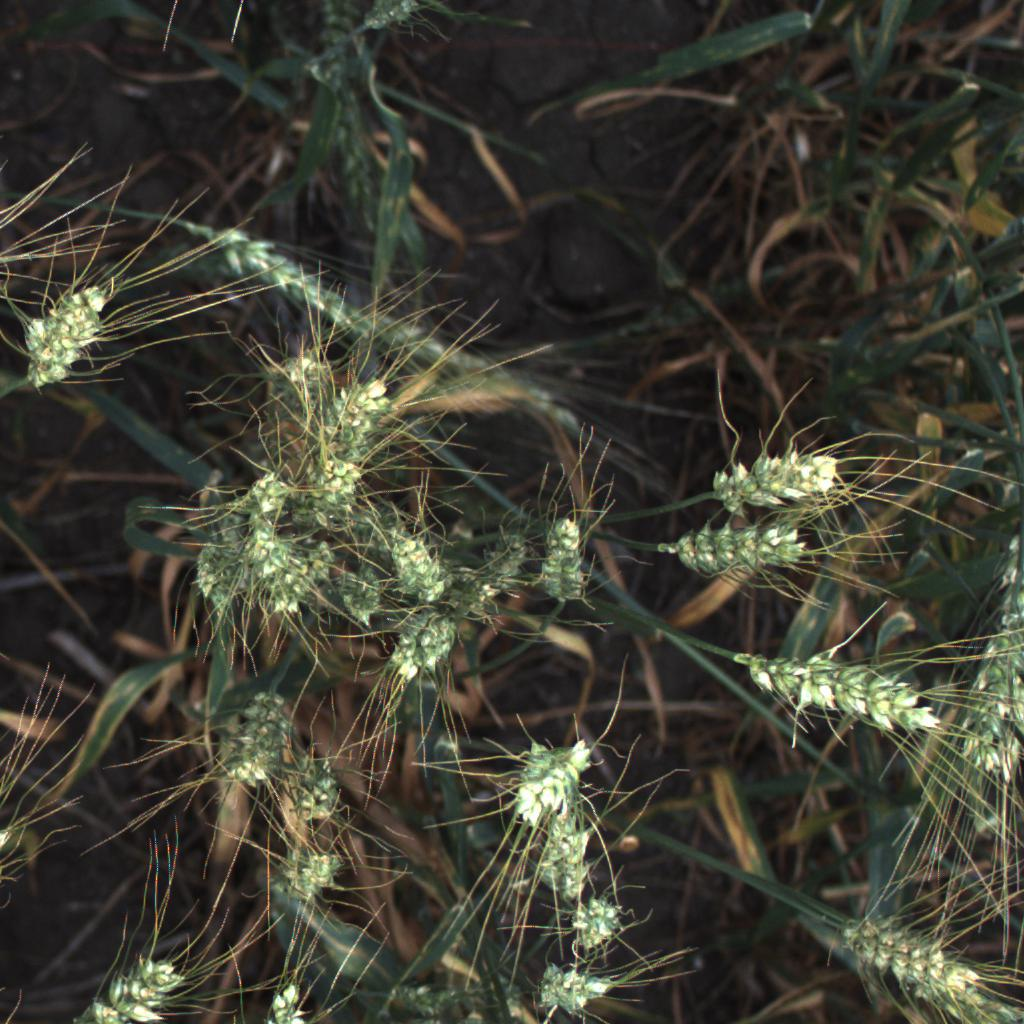0-0: (187, 511, 600, 610), (736, 629, 951, 739), (183, 213, 367, 333), (833, 922, 1022, 1024), (13, 259, 123, 399), (485, 704, 600, 828), (946, 614, 1022, 782), (61, 942, 196, 1024), (709, 441, 852, 517), (667, 514, 822, 580), (992, 519, 1024, 798), (223, 682, 295, 797), (247, 522, 322, 625), (389, 609, 480, 690), (259, 838, 348, 918), (380, 518, 459, 605), (522, 953, 618, 1024), (285, 739, 347, 832), (323, 376, 394, 454), (467, 527, 531, 611), (303, 457, 379, 527), (269, 352, 335, 431), (562, 882, 628, 958), (530, 813, 600, 875), (245, 970, 322, 1024), (350, 0, 434, 46), (336, 566, 389, 629), (236, 469, 300, 520)
